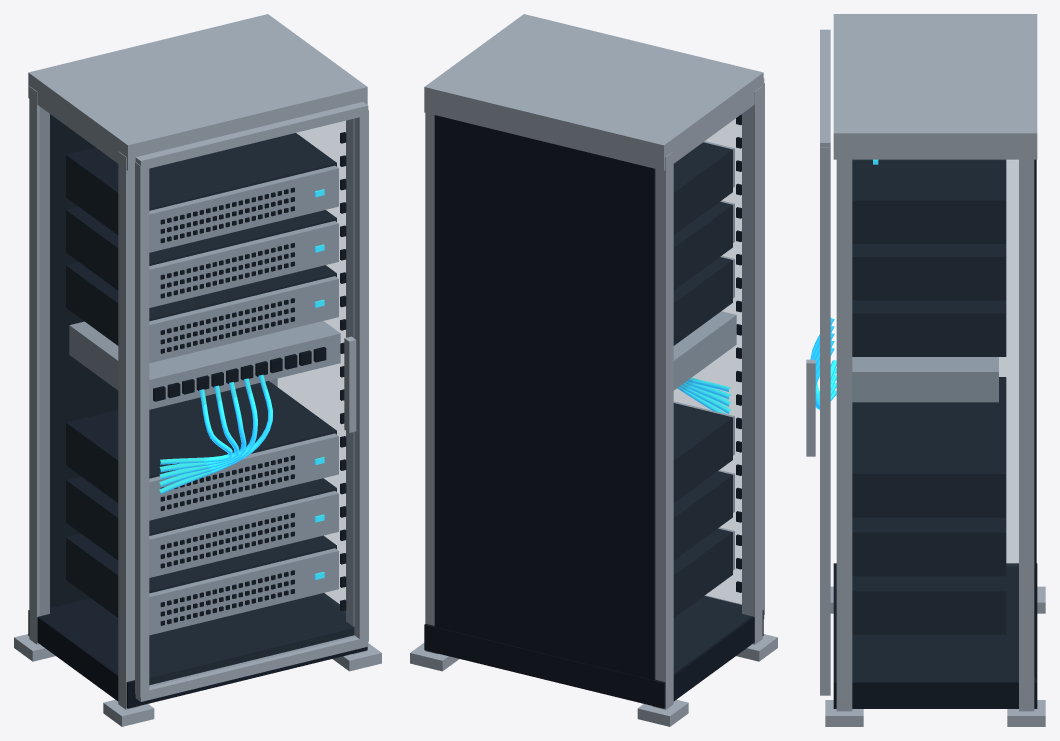
The model's file is semester-rack.glb.
3 renders of one model, left to right at view 1: azimuth 30°, elevation 25°; view 2: azimuth 150°, elevation 25°; view 3: azimuth 270°, elevation 25°, orthographic. The views are drawn at different scales.
Visible parts, largest first — view 1: RackServer, DoorHinge; view 2: RackServer, DoorHinge; view 3: RackServer, DoorHinge.
Part boxes in pixels (x1,y1,x2,y2): RackServer: [14, 14, 381, 726]; DoorHinge: [135, 102, 368, 701]; RackServer: [410, 14, 777, 726]; DoorHinge: [704, 78, 764, 619]; RackServer: [810, 14, 1045, 726]; DoorHinge: [806, 29, 830, 695].
Bounding box in the file's own units: 1.28 × 2.71 × 1.
